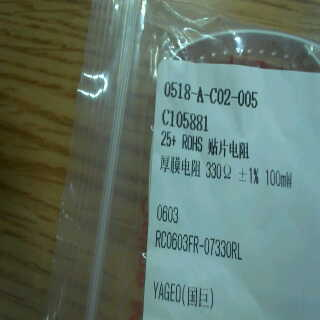330R: (203, 159, 234, 184)
